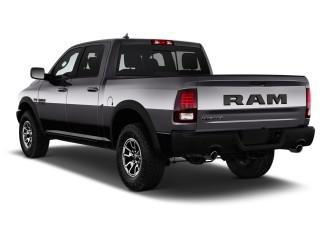ram: (217, 91, 292, 110)
